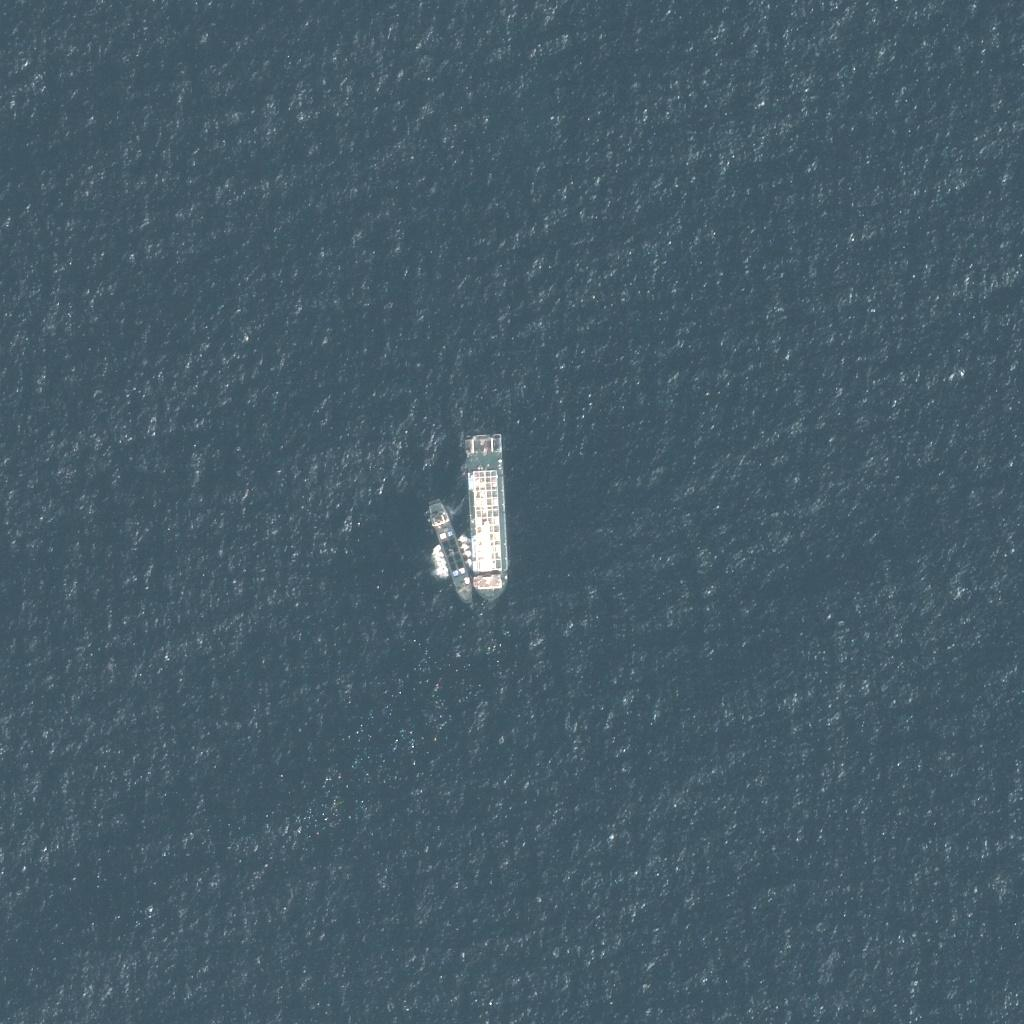ship: (459, 406, 503, 638), (397, 496, 459, 636)
